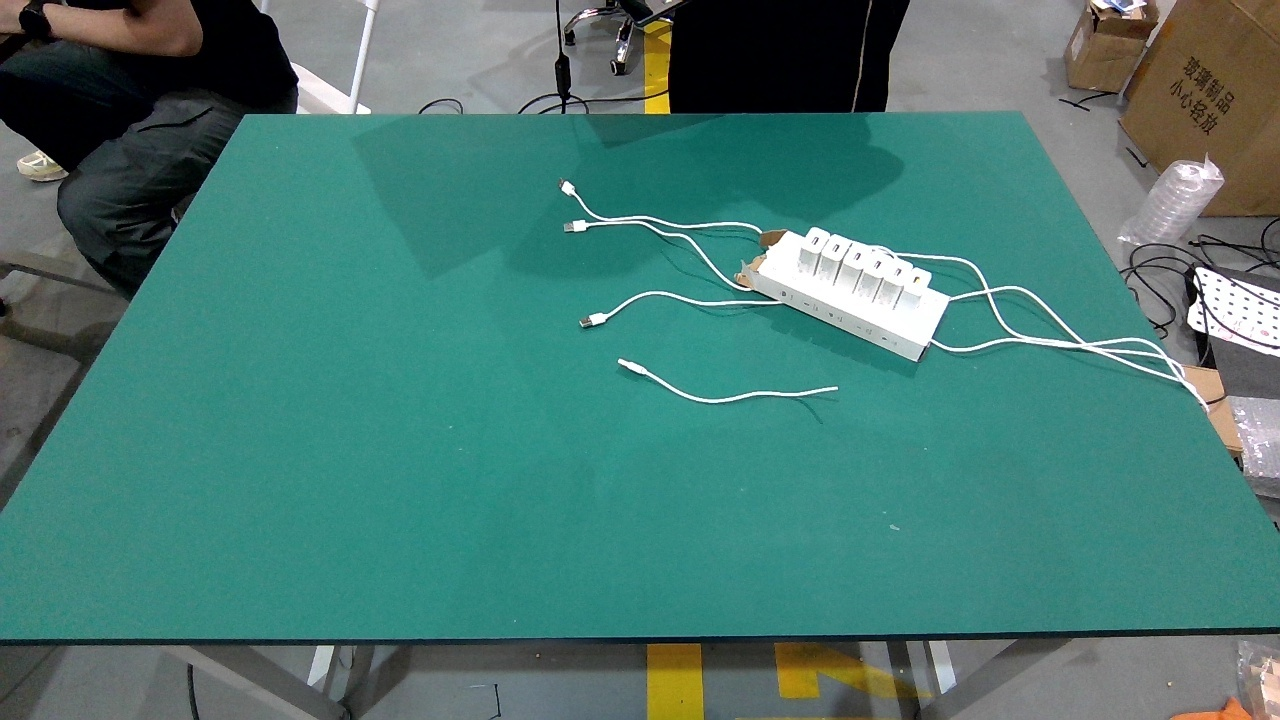usb_a_plug: (616, 355, 654, 379), (553, 175, 581, 201), (577, 310, 617, 328), (564, 219, 595, 234)
